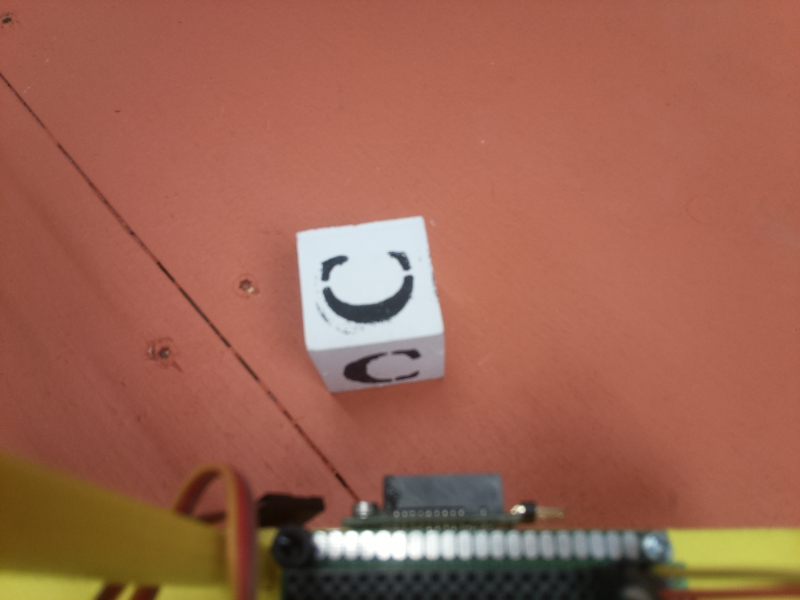blockC: (297, 216, 447, 398)
